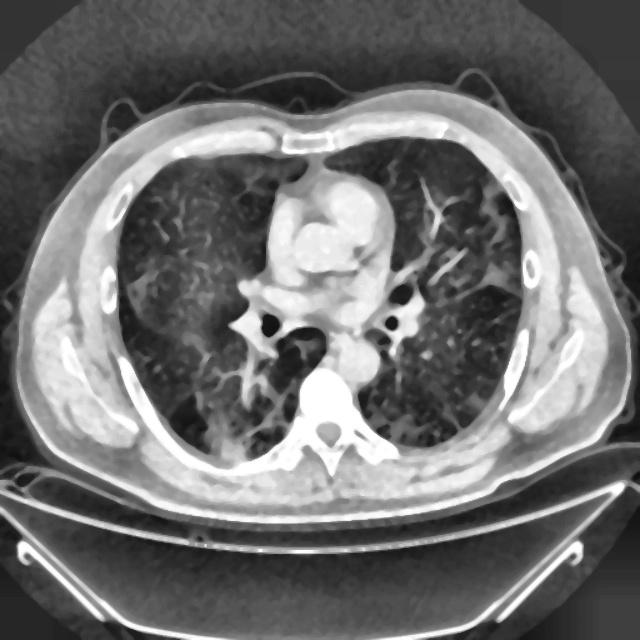covid: (10, 72, 635, 536)
